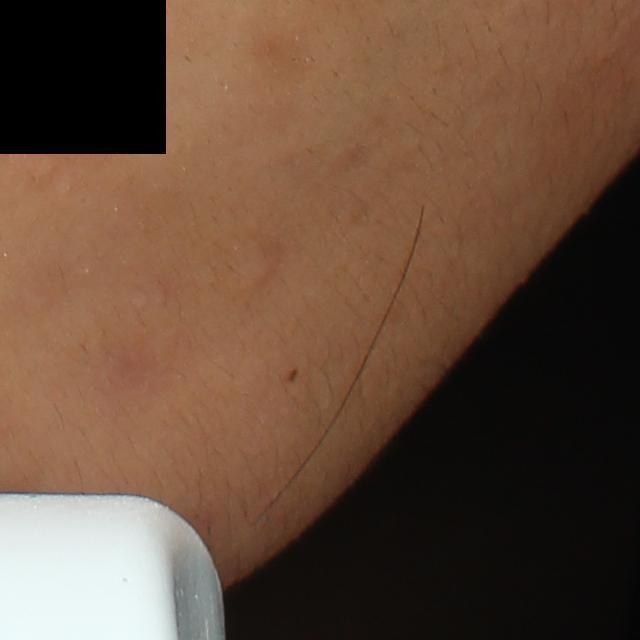nevus: (285, 366, 300, 383)
